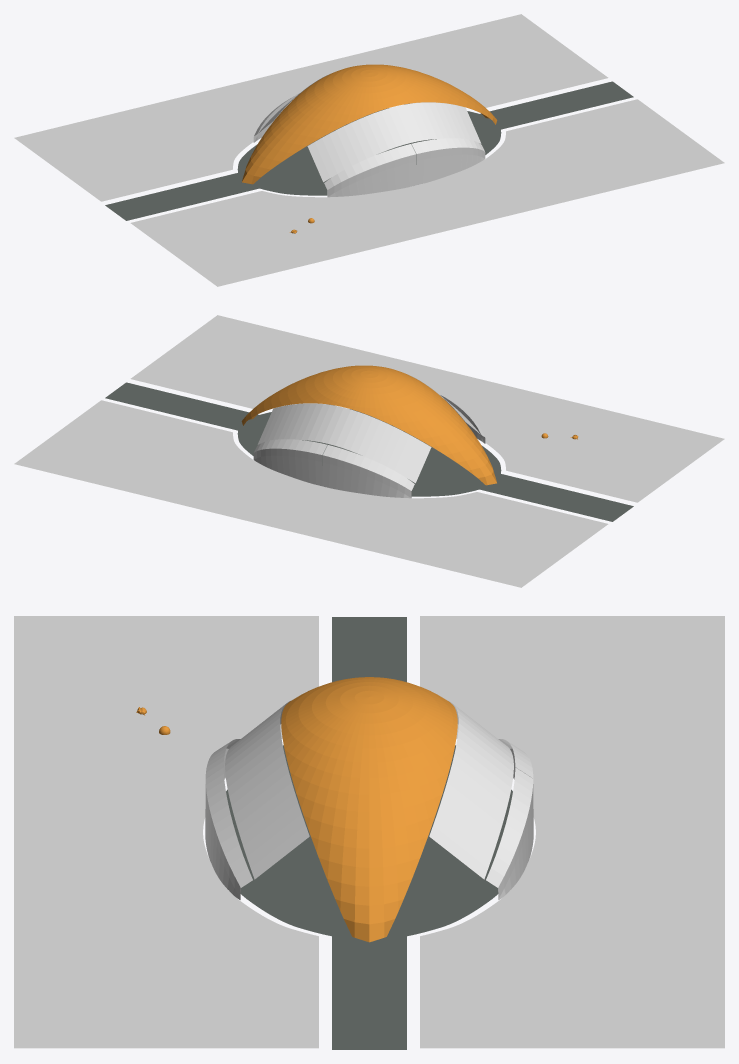
File: hemisferic.glb
3 views of the same model, one above another, from view 1: azimuth 30°, elevation 25°; view 2: azimuth 150°, elevation 25°; view 3: azimuth 270°, elevation 25° (orthographic). The views are drawn at different scales.
Visible parts, largest first — view 1: pool, egg_dome.006, walkway, eye_lid.006, front_base.006; view 2: pool, egg_dome.006, walkway, eye_lid.006, front_base.006; view 3: pool, egg_dome.006, walkway, eye_lid.006, front_base.006.
Part boxes in pixels (<box>): pool: <box>14,14,724,286</box>; egg_dome.006: <box>242,64,497,184</box>; walkway: <box>105,81,633,220</box>; eye_lid.006: <box>258,74,481,182</box>; front_base.006: <box>253,93,485,197</box>; pool: <box>14,315,724,587</box>; egg_dome.006: <box>241,365,496,485</box>; walkway: <box>105,382,633,521</box>; eye_lid.006: <box>257,375,480,483</box>; front_base.006: <box>253,394,485,498</box>; pool: <box>14,616,724,1048</box>; egg_dome.006: <box>281,677,457,942</box>; walkway: <box>226,617,512,1049</box>; eye_lid.006: <box>225,701,513,879</box>; front_base.006: <box>205,739,533,899</box>.
Bounding box in the file's own units: 178 × 26.77 × 124.
